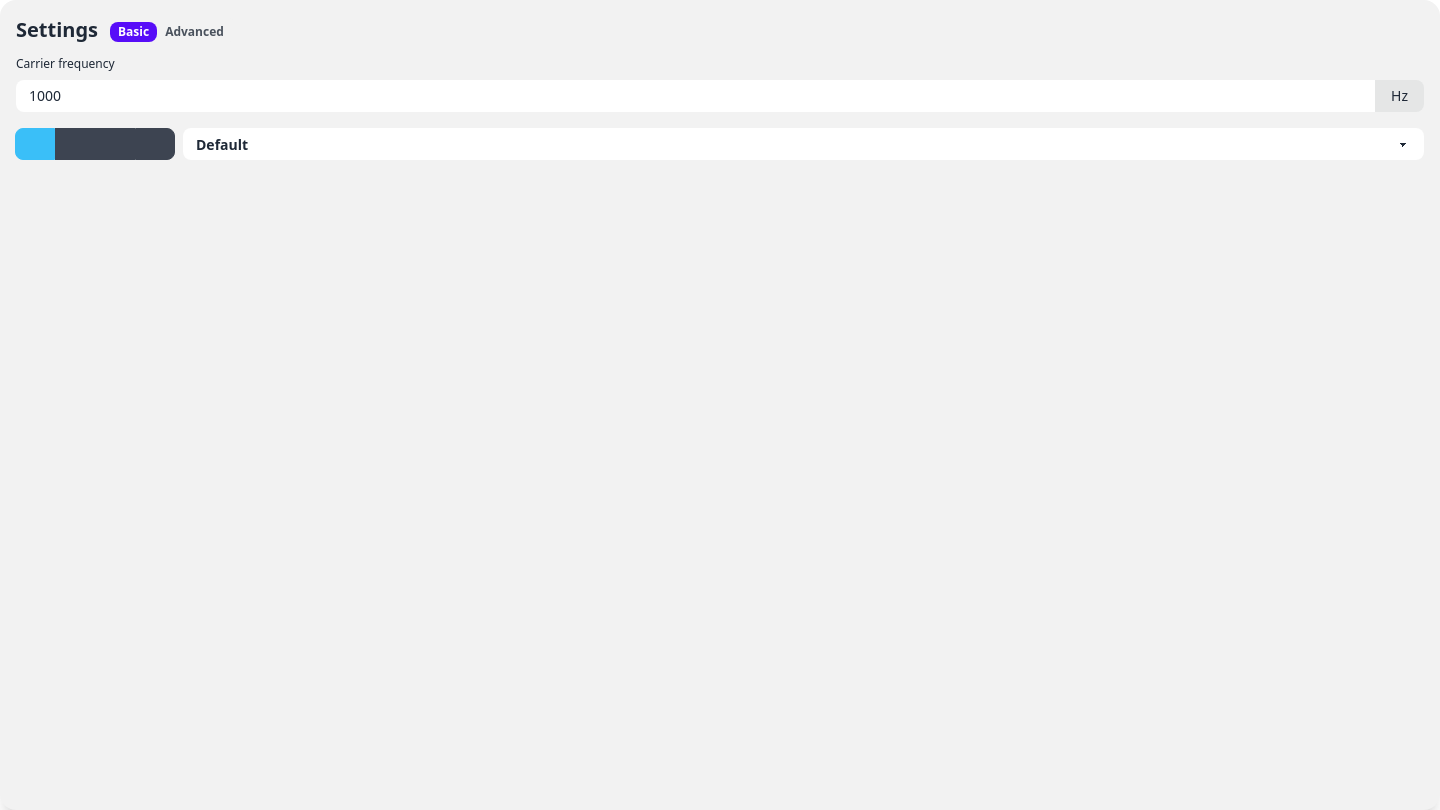
Test case: can switch between basic and advanced settings
The image size is (1440, 810).
Click the button "Basic": [134, 32] box x1=110 y1=22 x2=157 y2=42
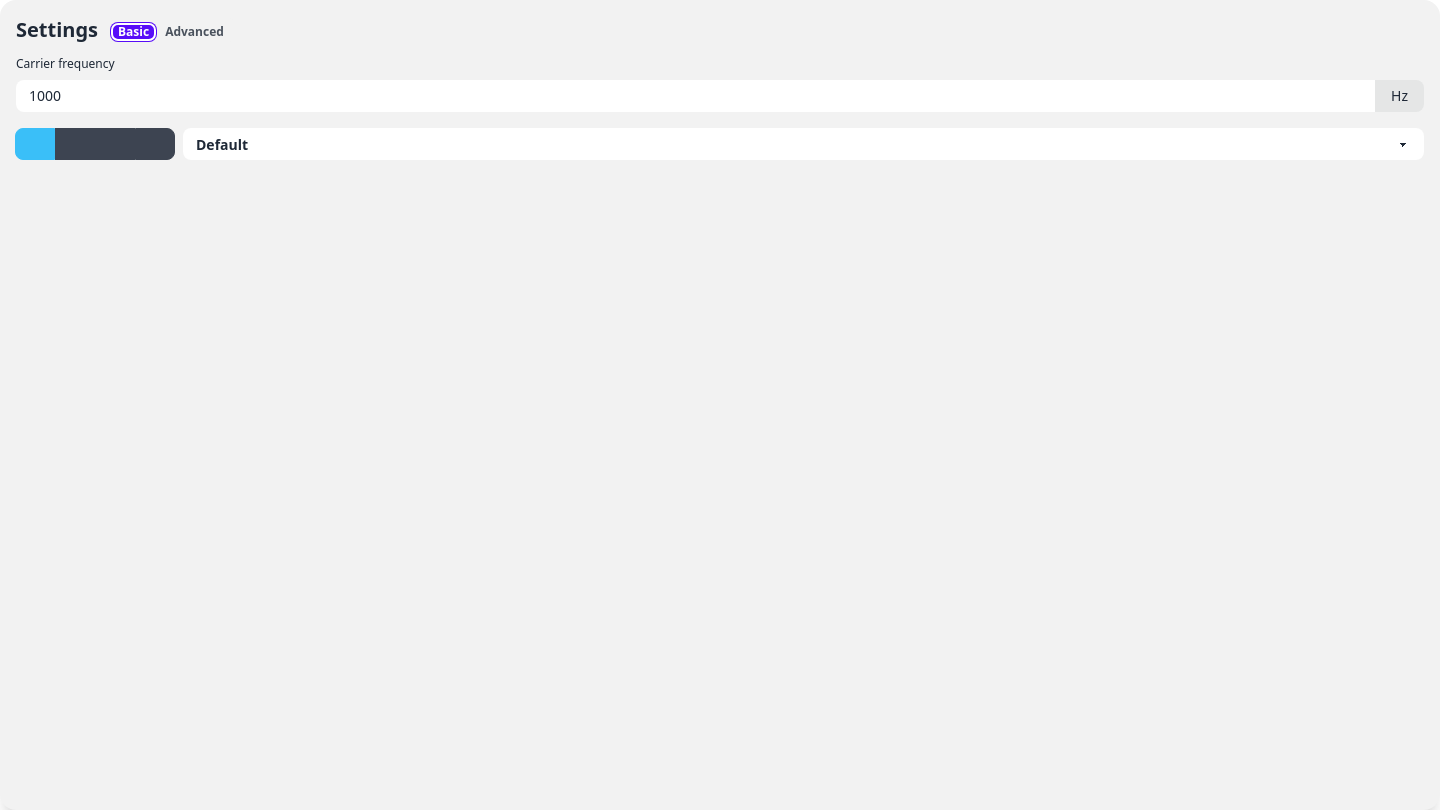
Check: the text "Carrier frequency" is shown, box x1=16 y1=55 x2=115 y2=72
Click the button "Advanced": [195, 32] box x1=157 y1=22 x2=232 y2=42
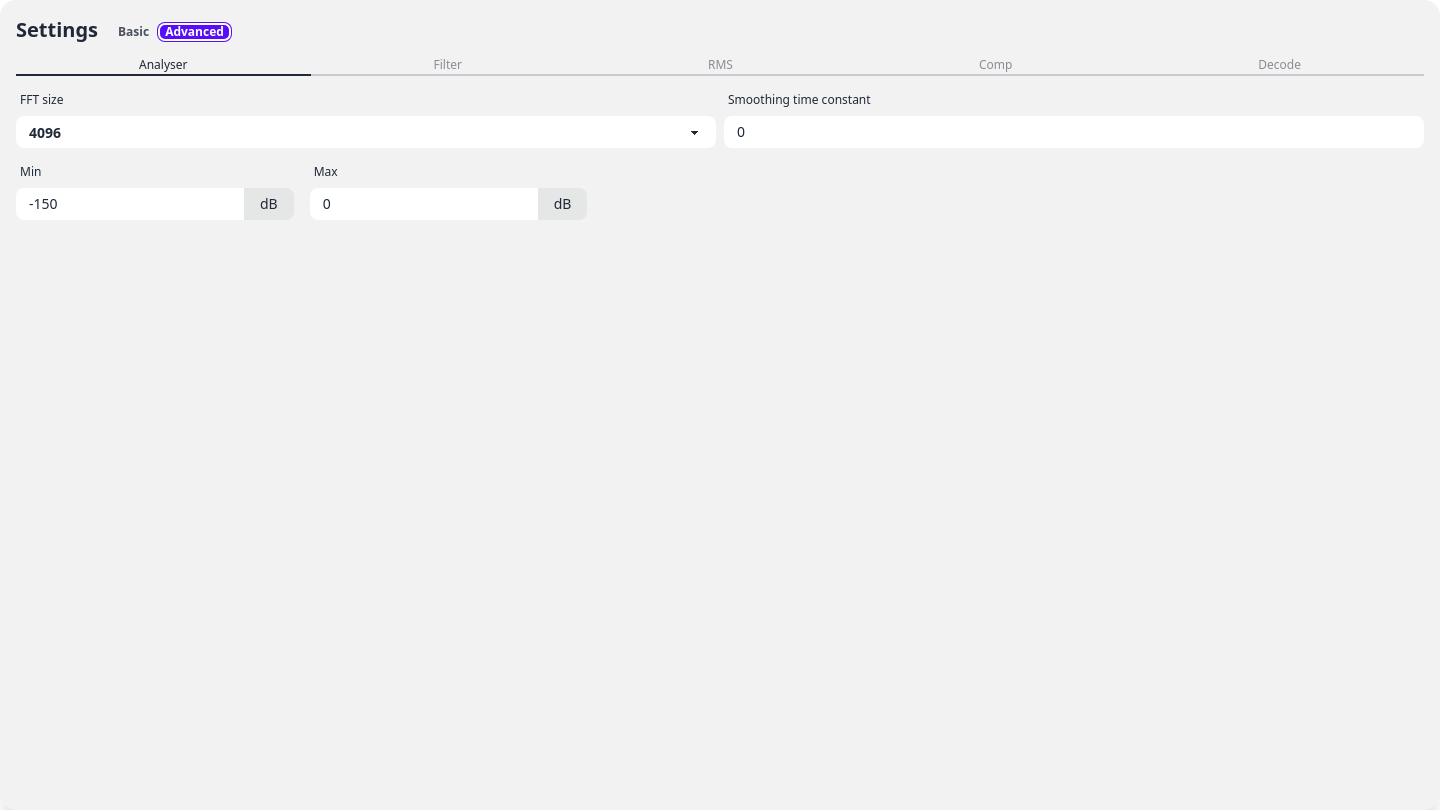
Check: the text "FFT size" is shown, box x1=20 y1=91 x2=64 y2=108
